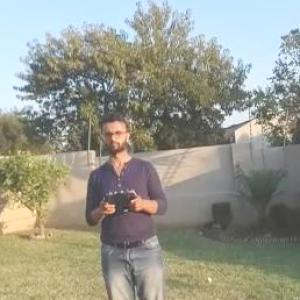follow: (77, 106, 174, 299)
